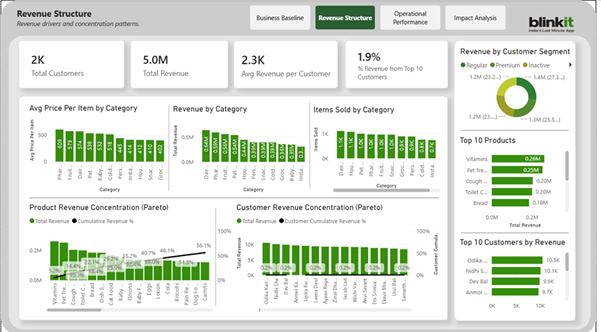

What the dashboard file says about the page in this screenshot:
{"tool":"powerbi","page":{"name":"Revenue Structure","canvas":[1280,720],"ordinal":1},"visuals":[{"type":"shape","box":[0,0,1280,719.7],"z":0},{"type":"shape","box":[16.6,76.3,1250.9,632.4],"z":1000},{"type":"textbox","box":[29.1,11.1,506.2,62.4],"z":2000},{"type":"image","box":[1121.9,0,124.8,106.8],"z":3000},{"type":"shape","box":[39.7,207,921,481.2],"z":4000},{"type":"shape","box":[974.4,88,260.4,601.9],"z":5000},{"type":"shape","box":[989.9,269,231.1,22.4],"z":6000},{"type":"cardVisual","fields":{"Data":["KPI_Measures.Total Customers"]},"box":[39.7,88,225.9,101.8],"z":7000},{"type":"cardVisual","fields":{"Data":["KPI_Measures.Total Revenue"]},"box":[279.4,88,208.7,101.8],"z":8000},{"type":"cardVisual","fields":{"Data":["KPI_Measures.Avg Revenue per Customer"]},"box":[501.9,88,222.5,101.8],"z":9000},{"type":"cardVisual","fields":{"Data":["KPI_Measures.% Revenue from Top 10 Customers"]},"box":[741.6,88,219,101.8],"z":10000},{"type":"clusteredColumnChart","title":"Revenue by Category","fields":{"Category":["DimProduct.category"],"Y":["KPI_Measures.Total Revenue"]},"box":[365.6,224.2,301.8,194.9],"z":11000},{"type":"clusteredColumnChart","title":"Items Sold by Category","fields":{"Category":["DimProduct.category"],"Y":["KPI_Measures.Items Sold"]},"box":[667.4,225.9,282.8,193.2],"z":12000},{"type":"clusteredColumnChart","title":"Avg Price Per Item by Category","fields":{"Category":["DimProduct.category"],"Y":["KPI_Measures.Avg Price Per Item"]},"box":[56.9,222.5,308.7,196.6],"z":13000},{"type":"lineClusteredColumnComboChart","title":"Product Revenue Concentration (Pareto)","fields":{"Category":["DimProduct.product_name"],"Y":["KPI_Measures.Total Revenue"],"Y2":["KPI_Measures.Cumulative Revenue %"]},"box":[56.9,436.3,445,239.7],"z":14000},{"type":"lineClusteredColumnComboChart","title":"Customer Revenue Concentration (Pareto)","fields":{"Y":["KPI_Measures.Total Revenue"],"Y2":["KPI_Measures.Customer Cumulative Revenue %"],"Category":["DimCustomer.customer_name"]},"box":[501.9,436.3,445,239.7],"z":15000},{"type":"shape","box":[989.9,495,231.1,12.1],"z":16000},{"type":"shape","box":[60.4,413.9,881.3,24.1],"z":17000},{"type":"barChart","title":"Top 10 Products","fields":{"Category":["DimProduct.product_name"],"Y":["KPI_Measures.Total Revenue"]},"box":[981.3,291.5,244.9,203.5],"z":18000},{"type":"barChart","title":"Top 10 Customers by Revenue","fields":{"Category":["DimCustomer.customer_name"],"Y":["KPI_Measures.Total Revenue"]},"box":[981.3,510.5,244.9,165.6],"z":19000},{"type":"donutChart","title":"Revenue by Customer Segment","fields":{"Category":["DimCustomer.customer_segment"],"Y":["KPI_Measures.Total Revenue"]},"box":[983,100,251.8,169],"z":20000},{"type":"shape","box":[351.8,225.9,19,184.5],"z":21000},{"type":"shape","box":[655.4,220.8,19,184.5],"z":22000},{"type":"shape","box":[450.1,448.4,24.1,208.7],"z":23000},{"type":"pageNavigator","box":[535.6,11,553.9,53.8],"z":24000}]}

Visuals, with their boxes in screenshot pixels (x1, y1, x2, y2), scaled from the page's 1280x720 canvas onto the 601x332 screenshot:
shape: locate(0, 0, 600, 331)
shape: locate(8, 35, 595, 327)
textbox: locate(14, 5, 251, 34)
image: locate(527, 0, 585, 49)
shape: locate(19, 95, 451, 317)
shape: locate(458, 41, 580, 318)
shape: locate(465, 124, 573, 134)
cardVisual - KPI_Measures.Total Customers: locate(19, 41, 125, 88)
cardVisual - KPI_Measures.Total Revenue: locate(131, 41, 229, 88)
cardVisual - KPI_Measures.Avg Revenue per Customer: locate(236, 41, 340, 88)
cardVisual - KPI_Measures.% Revenue from Top 10 Customers: locate(348, 41, 451, 88)
"Revenue by Category" clusteredColumnChart: locate(172, 103, 313, 193)
"Items Sold by Category" clusteredColumnChart: locate(313, 104, 446, 193)
"Avg Price Per Item by Category" clusteredColumnChart: locate(27, 103, 172, 193)
"Product Revenue Concentration (Pareto)" lineClusteredColumnComboChart: locate(27, 201, 236, 312)
"Customer Revenue Concentration (Pareto)" lineClusteredColumnComboChart: locate(236, 201, 445, 312)
shape: locate(465, 228, 573, 234)
shape: locate(28, 191, 442, 202)
"Top 10 Products" barChart: locate(461, 134, 576, 228)
"Top 10 Customers by Revenue" barChart: locate(461, 235, 576, 312)
"Revenue by Customer Segment" donutChart: locate(462, 46, 580, 124)
shape: locate(165, 104, 174, 189)
shape: locate(308, 102, 317, 187)
shape: locate(211, 207, 223, 303)
pageNavigator: locate(251, 5, 512, 30)
